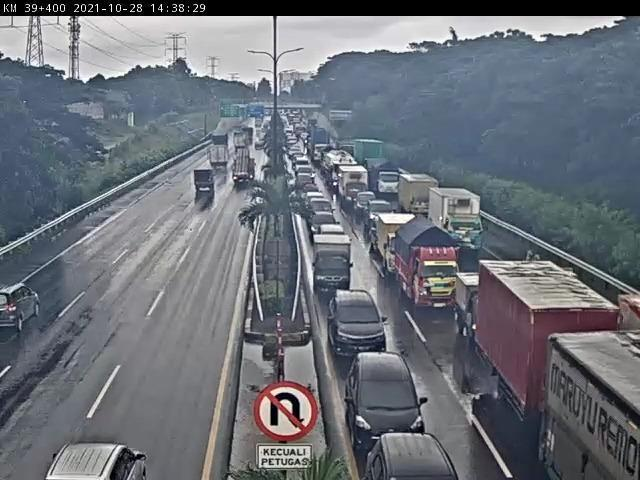car: (353, 356, 426, 434), (39, 446, 151, 480), (331, 294, 384, 353), (1, 277, 43, 337), (316, 239, 355, 288), (376, 439, 451, 464), (458, 277, 486, 342), (194, 168, 217, 199), (369, 202, 391, 233), (312, 213, 338, 234), (310, 200, 333, 216), (358, 197, 374, 218), (299, 177, 317, 193), (295, 158, 311, 174), (290, 147, 305, 160), (285, 129, 297, 142), (288, 138, 300, 148)
truck: (485, 268, 601, 419), (551, 334, 640, 460), (404, 220, 463, 312), (437, 194, 490, 256), (378, 215, 416, 283), (401, 178, 435, 218), (371, 169, 404, 199), (326, 151, 352, 189), (344, 168, 368, 208), (359, 142, 388, 174), (236, 150, 259, 181), (312, 129, 331, 165), (210, 142, 233, 168), (255, 129, 271, 149), (212, 129, 230, 146), (234, 130, 250, 149)
